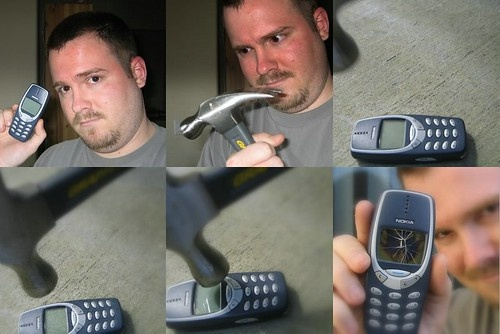hammer: (179, 86, 290, 167)
